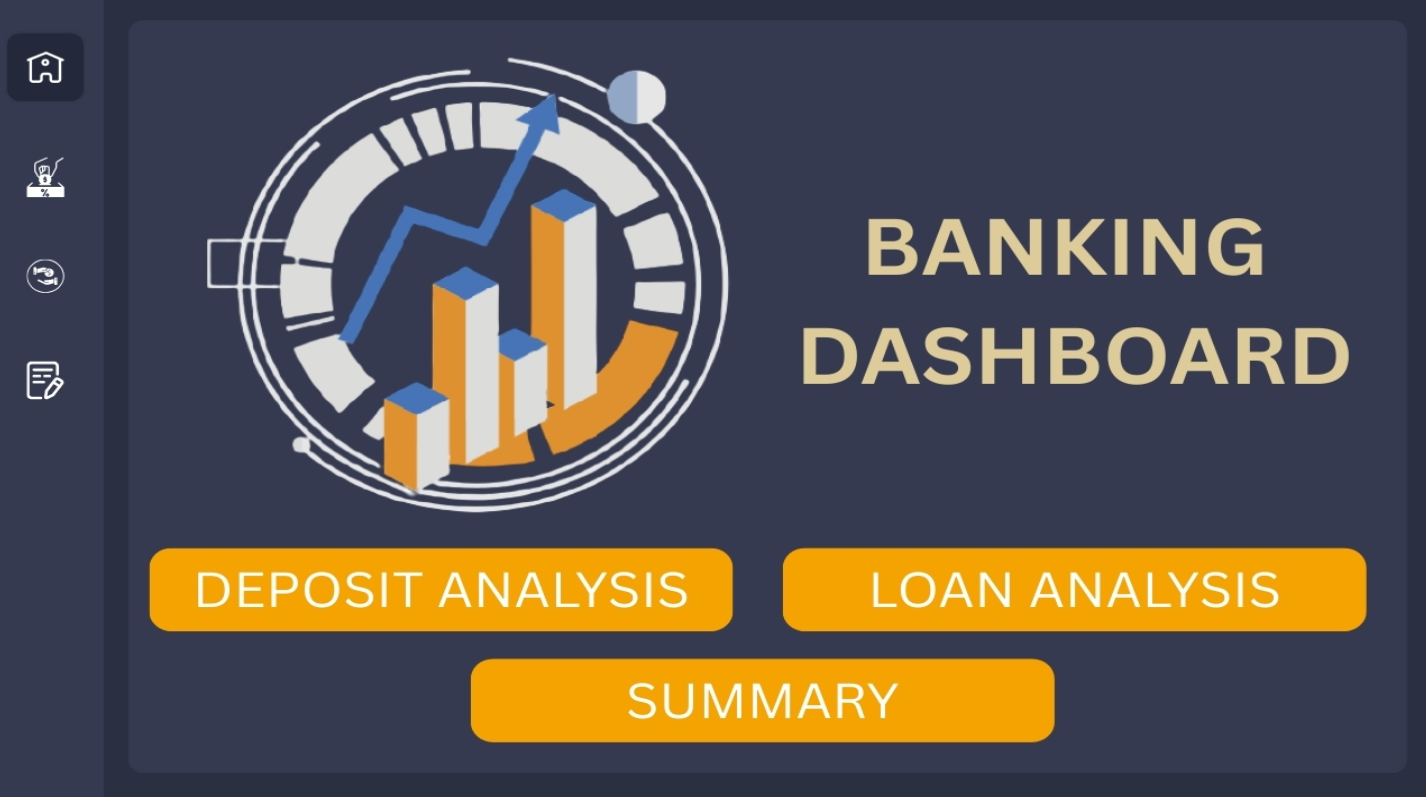

Layout of this report page (visuals, bound fields, positions):
{"tool":"powerbi","page":{"name":"Home","canvas":[1280,720],"ordinal":0},"visuals":[{"type":"actionButton","box":[10,128.9,70.2,63],"z":0},{"type":"actionButton","box":[8.6,31.5,70.2,63],"z":1000},{"type":"actionButton","box":[11.5,219.1,70.2,63],"z":2000},{"type":"actionButton","box":[137.5,491.2,517,74.5],"z":3000},{"type":"actionButton","box":[423.9,588.6,519.8,73],"z":4000},{"type":"actionButton","box":[701.7,491.2,519.8,74.5],"z":5000},{"type":"actionButton","box":[8.6,309.3,70.2,63],"z":6000}]}

Visuals, with their boxes on the page's 1280x720 design canvas (x1, y1, x2, y2). These are canvas units, not pixel positions in the 1426x797 screenshot, which may show the page scaled, cropped or inside an application window:
actionButton: bbox=(10, 129, 80, 192)
actionButton: bbox=(9, 32, 79, 94)
actionButton: bbox=(12, 219, 82, 282)
actionButton: bbox=(138, 491, 654, 566)
actionButton: bbox=(424, 589, 944, 662)
actionButton: bbox=(702, 491, 1222, 566)
actionButton: bbox=(9, 309, 79, 372)
